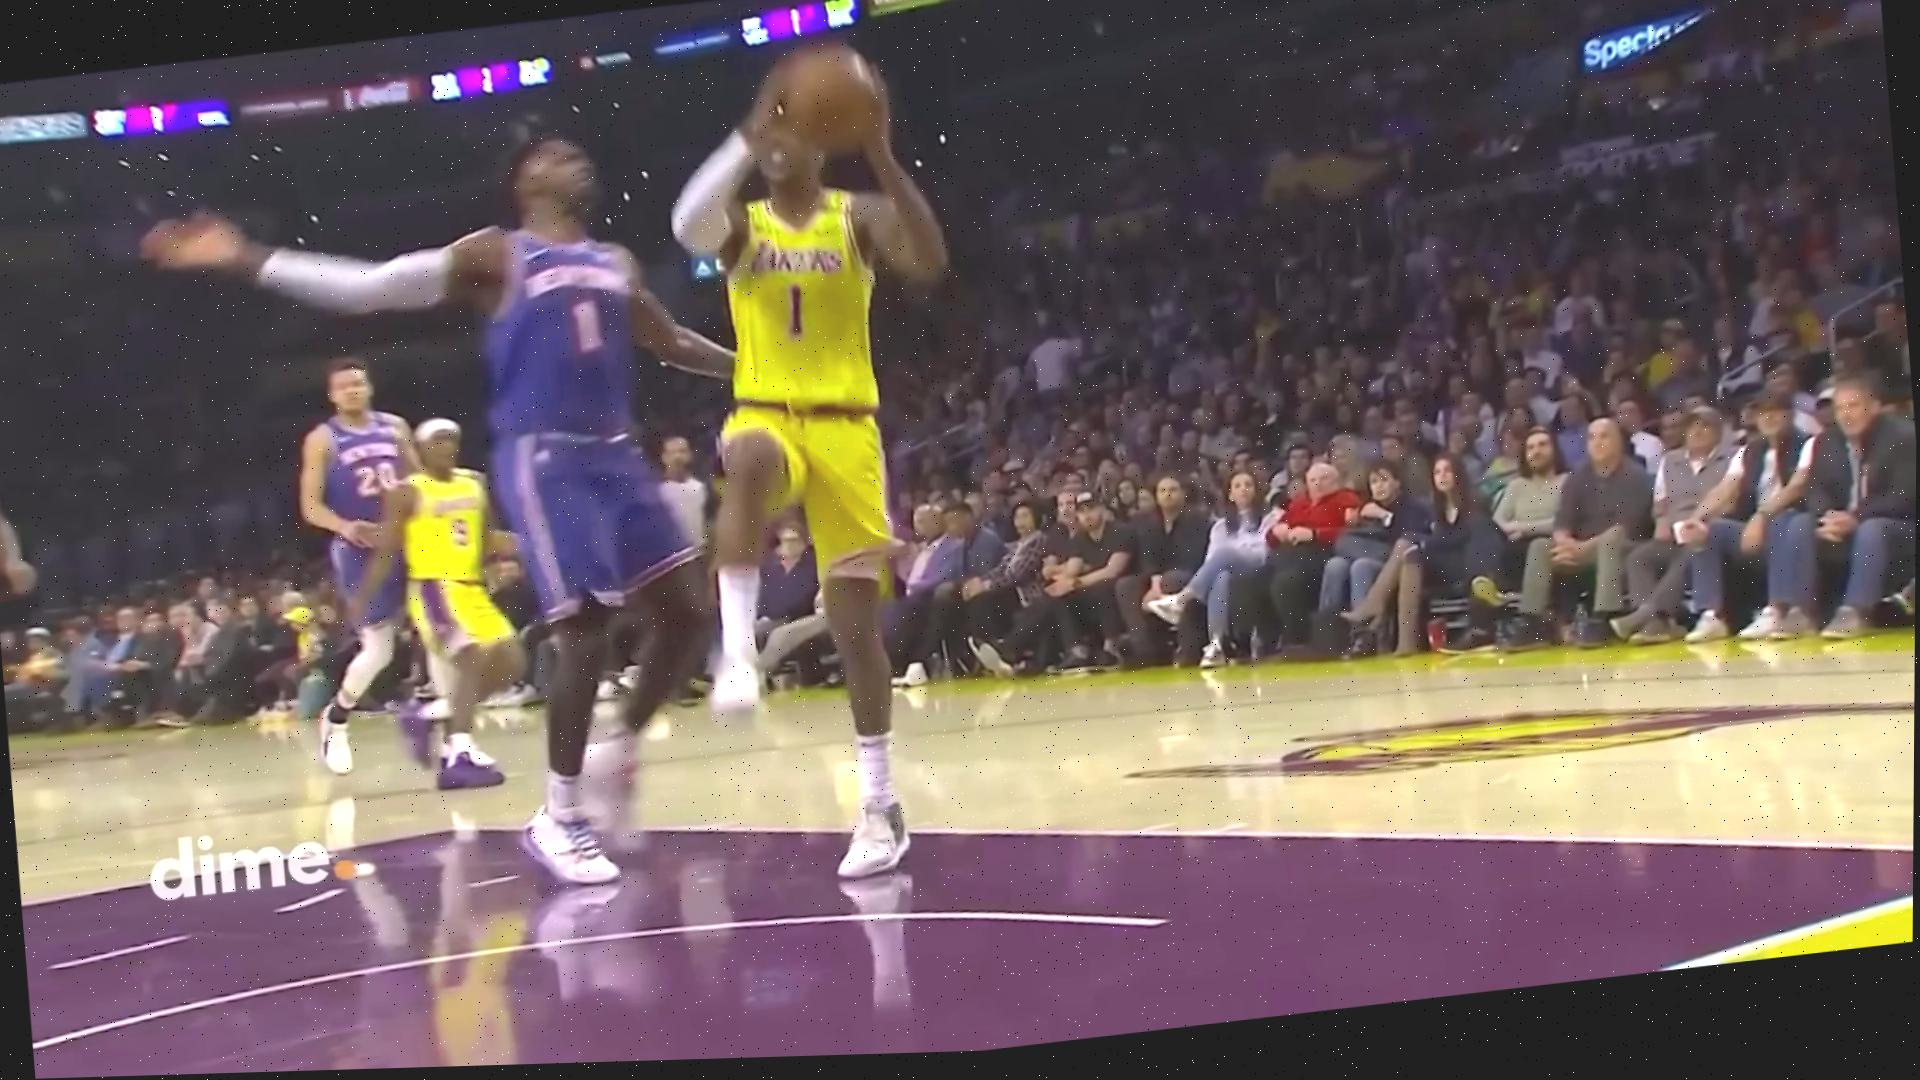no_foul: (228, 4, 998, 969)
